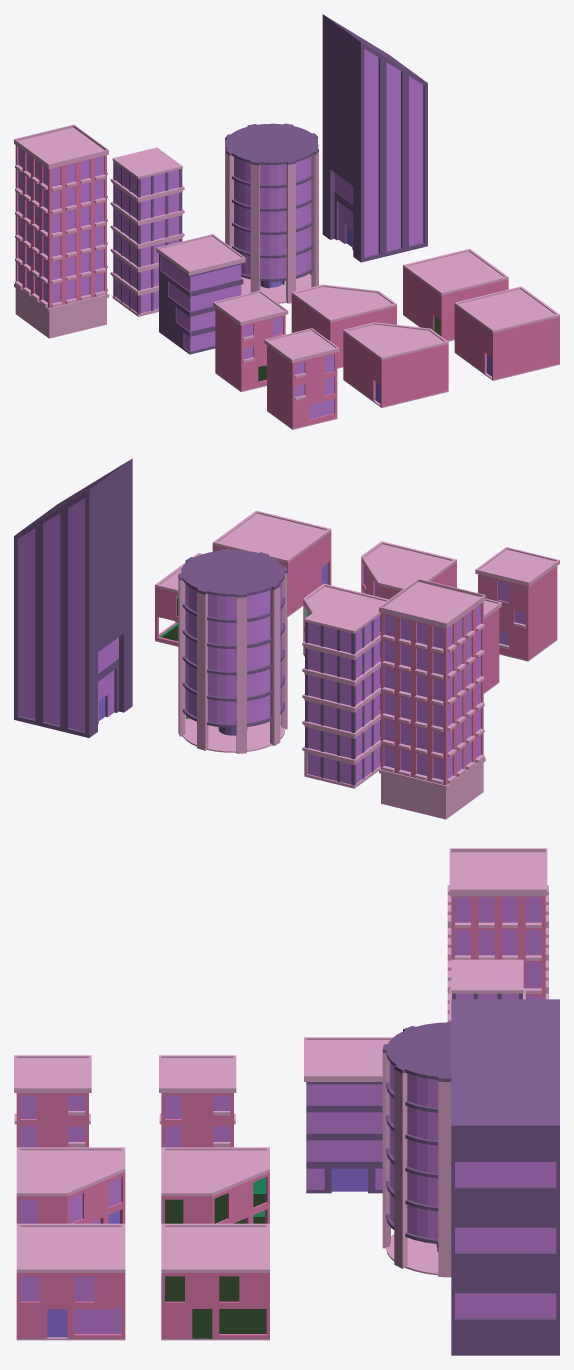
File: mwg_buildingSet1_v2.fbx
3 views of the same model, one above another, from view 1: azimuth 30°, elevation 25°; view 2: azimuth 150°, elevation 25°; view 3: azimuth 270°, elevation 25° (orthographic). The views are drawn at different scales.
Visible parts, largest first — view 1: building_skyscraperD, building_skyscraperB, building_skyscraperC, building_skyscraperA, building_shopB_closed, building_medium, building_shopA_closed, building_small_closed, building_shopB_open, building_small_open, building_shopA_open; view 2: building_skyscraperD, building_skyscraperB, building_skyscraperC, building_skyscraperA, building_small_closed, building_shopB_closed, building_shopA_closed, building_shopB_open, building_small_open, building_shopA_open; view 3: building_skyscraperD, building_skyscraperC, building_shopB_closed, building_shopB_open, building_skyscraperB, building_medium, building_shopA_closed, building_shopA_open, building_small_open, building_small_closed, building_skyscraperA.
Part boxes in pixels (x1=…): building_skyscraperD: x1=322, y1=14, x2=427, y2=262; building_skyscraperB: x1=14, y1=124, x2=108, y2=338; building_skyscraperC: x1=225, y1=123, x2=318, y2=303; building_skyscraperA: x1=110, y1=147, x2=184, y2=316; building_shopB_closed: x1=454, y1=286, x2=559, y2=380; building_medium: x1=156, y1=234, x2=245, y2=354; building_shopA_closed: x1=343, y1=322, x2=448, y2=407; building_small_closed: x1=264, y1=328, x2=339, y2=429; building_shopB_open: x1=403, y1=248, x2=508, y2=341; building_small_open: x1=213, y1=290, x2=288, y2=392; building_shopA_open: x1=291, y1=284, x2=396, y2=368; building_skyscraperD: x1=14, y1=458, x2=132, y2=737; building_skyscraperB: x1=379, y1=578, x2=485, y2=819; building_skyscraperC: x1=178, y1=549, x2=287, y2=753; building_skyscraperA: x1=302, y1=598, x2=380, y2=788; building_small_closed: x1=475, y1=547, x2=559, y2=661; building_shopB_closed: x1=212, y1=510, x2=331, y2=616; building_shopA_closed: x1=361, y1=541, x2=456, y2=599; building_shopB_open: x1=155, y1=553, x2=202, y2=646; building_small_open: x1=483, y1=598, x2=501, y2=693; building_shopA_open: x1=303, y1=583, x2=388, y2=656; building_skyscraperD: x1=451, y1=999, x2=559, y2=1355; building_skyscraperC: x1=382, y1=1022, x2=451, y2=1277; building_shopB_closed: x1=16, y1=1223, x2=125, y2=1340; building_shopB_open: x1=161, y1=1223, x2=269, y2=1340; building_skyscraperB: x1=447, y1=848, x2=548, y2=1022; building_medium: x1=304, y1=1037, x2=392, y2=1193; building_shopA_closed: x1=16, y1=1147, x2=125, y2=1223; building_shopA_open: x1=161, y1=1147, x2=269, y2=1223; building_small_open: x1=159, y1=1055, x2=236, y2=1147; building_small_closed: x1=14, y1=1055, x2=91, y2=1147; building_skyscraperA: x1=449, y1=959, x2=525, y2=1022.
Bounding box in the file's own units: 8550 × 4725 × 7535.
